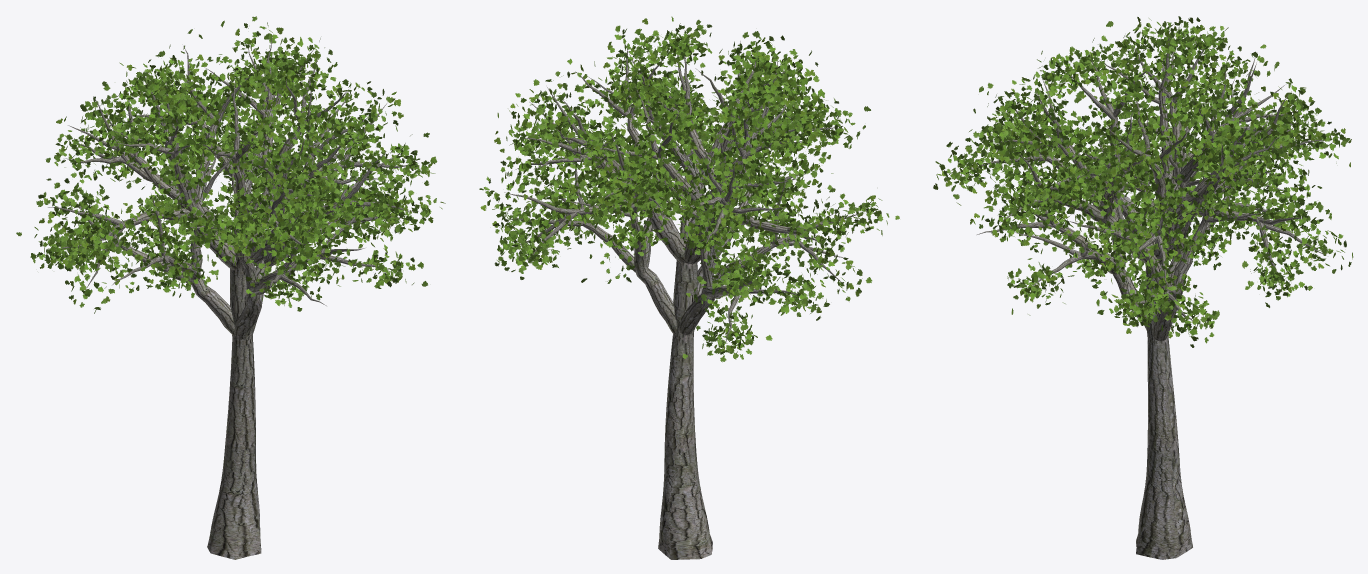
3 views of the same model, side by side, from view 1: azimuth 30°, elevation 25°; view 2: azimuth 150°, elevation 25°; view 3: azimuth 270°, elevation 25° (orthographic).
Visible parts, largest first — view 1: Fresno foliage cards, Fresno_EasyTree_V020_Proof; view 2: Fresno foliage cards, Fresno_EasyTree_V020_Proof; view 3: Fresno foliage cards, Fresno_EasyTree_V020_Proof.
Part boxes in pixels (x1=…): Fresno foliage cards: x1=16, y1=16, x2=445, y2=313; Fresno_EasyTree_V020_Proof: x1=48, y1=36, x2=418, y2=559; Fresno foliage cards: x1=479, y1=16, x2=899, y2=362; Fresno_EasyTree_V020_Proof: x1=504, y1=41, x2=858, y2=559; Fresno foliage cards: x1=933, y1=16, x2=1353, y2=347; Fresno_EasyTree_V020_Proof: x1=970, y1=30, x2=1326, y2=559.
Bounding box in the file's own units: 7.68 × 9.5 × 7.21.
Materials: 2 (2 with a texture image).
